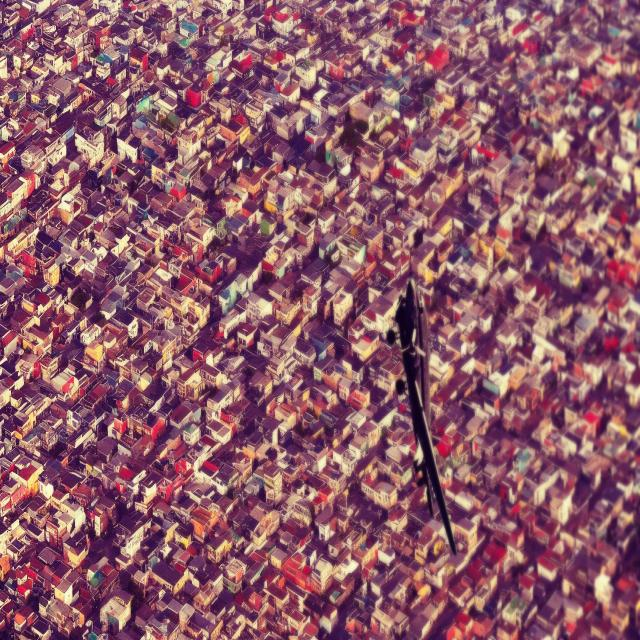airplane: (386, 276, 457, 556)
